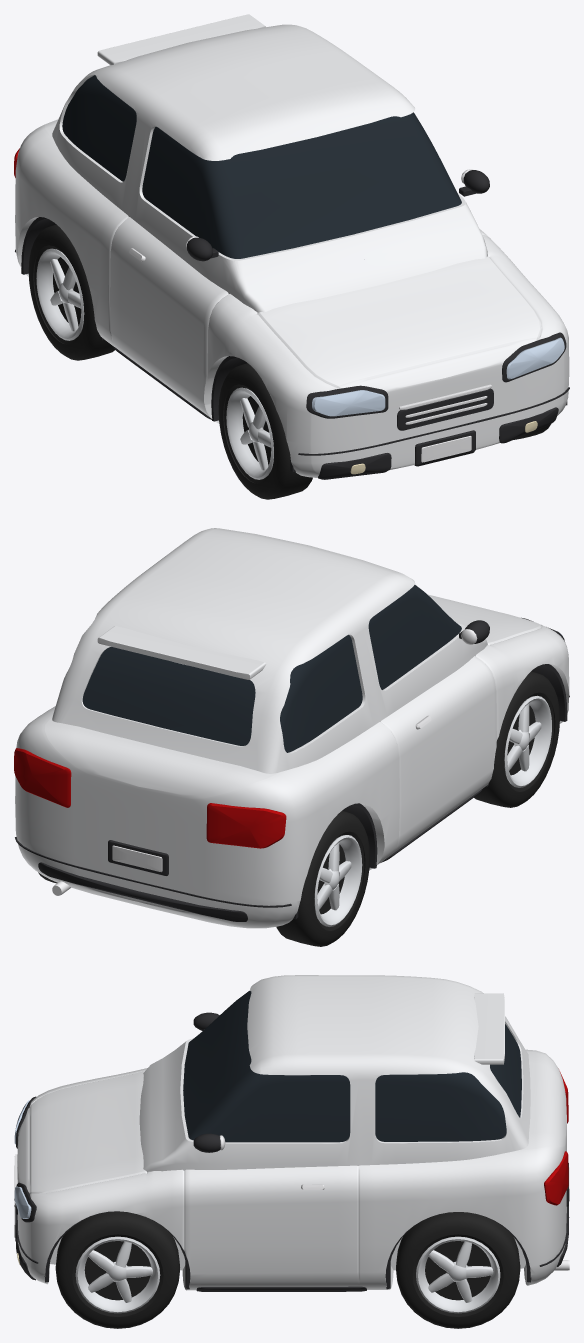
Rendered from hatchback.glb.
The picture shows the model from 3 angles, top to bottom: view 1: azimuth 30°, elevation 25°; view 2: azimuth 150°, elevation 25°; view 3: azimuth 270°, elevation 25°; orthographic projection. The views are drawn at different scales.
Parts seen in each view (by area): view 1: body, glass, trim, wheel-front-right, wheel-back-right, lights; view 2: body, glass, wheel-back-right, trim, wheel-front-right, lights; view 3: body, glass, wheel-front-left, wheel-back-left, trim, lights.
Boxes of the visible parts, x1,y1,x2,y2 form: body: (15,14,569,477); glass: (62,75,461,258); trim: (15,169,569,479); wheel-front-right: (218,363,312,499); wheel-back-right: (28,224,115,360); lights: (14,148,564,474); body: (15,528,569,928); glass: (82,585,461,752); wheel-back-right: (276,811,369,946); trim: (15,617,569,921); wheel-front-right: (474,671,559,807); lights: (14,632,562,848); body: (17,975,566,1290); glass: (183,991,521,1142); wheel-front-left: (55,1211,179,1328); wheel-back-left: (396,1212,520,1328); trim: (14,1012,569,1291); lights: (14,1072,568,1265).
Bounding box in the file's own units: 1.48 × 1.38 × 2.68.
